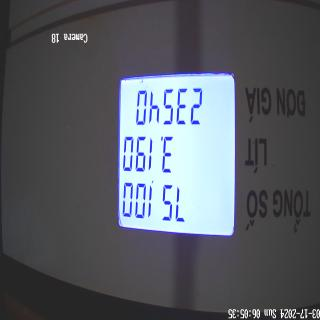screen: (113, 67, 239, 249)
